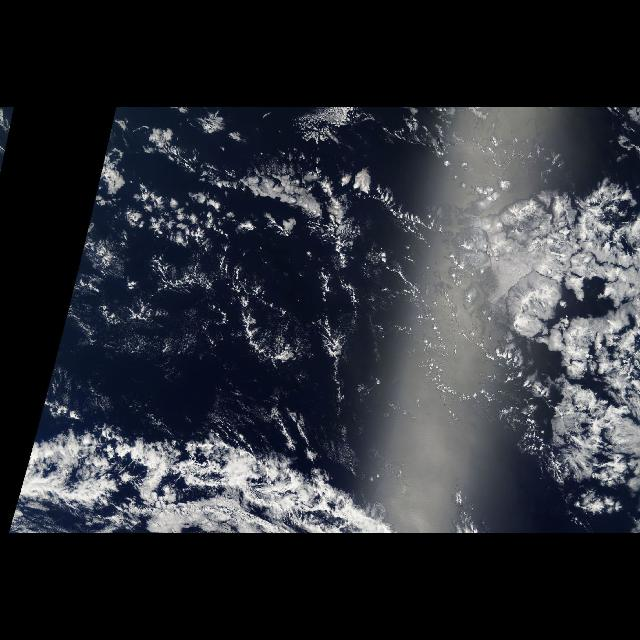Fish: (8, 422, 396, 528)
Sugar: (456, 166, 636, 510), (95, 308, 368, 404)
